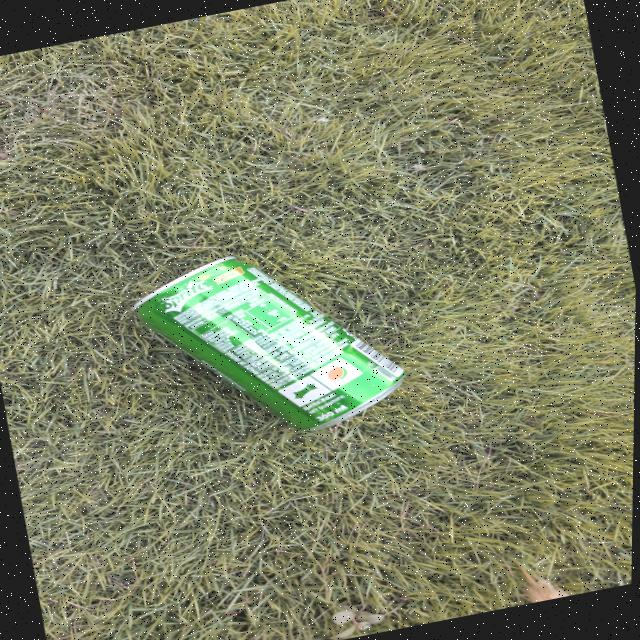Sprite: (121, 228, 422, 449)
